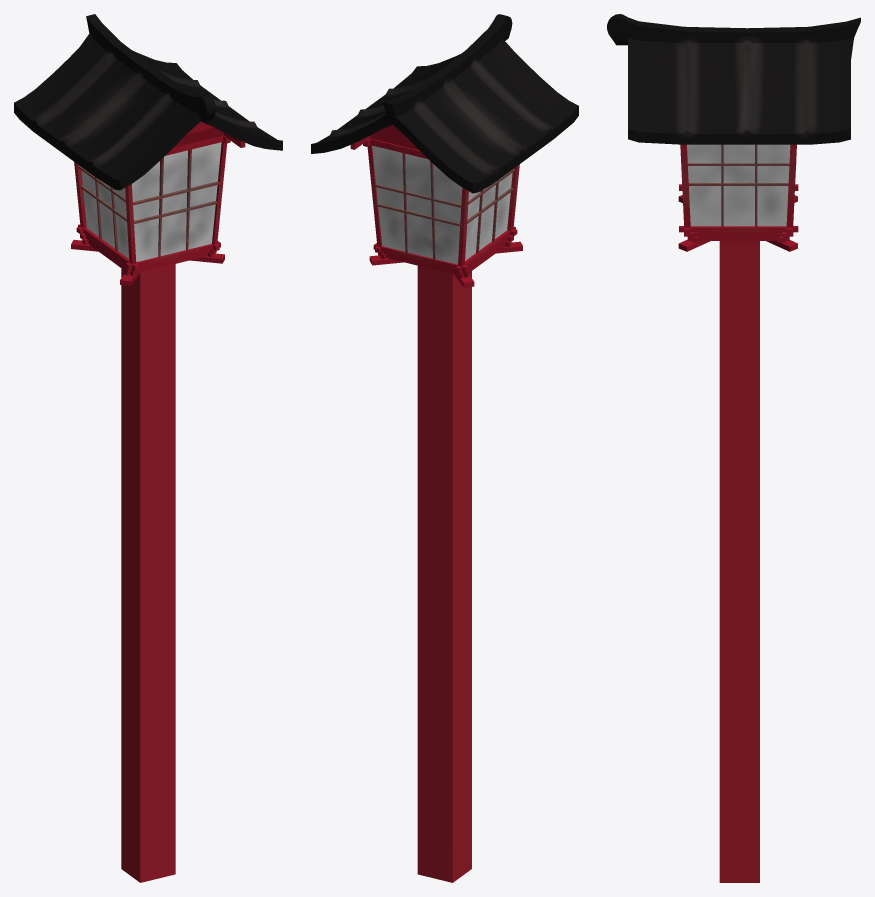
The model's file is toro.glb.
3 views of the same model, side by side, from view 1: azimuth 30°, elevation 25°; view 2: azimuth 150°, elevation 25°; view 3: azimuth 270°, elevation 25° (orthographic). The views are drawn at different scales.
Visible parts, largest first — view 1: lamp_stick, lamp_roof_ver3, lamp_paper, lamp_base3, lamp_paper_details, lamp_roof_base, lamp_cross, lamp_base1; view 2: lamp_stick, lamp_roof_ver3, lamp_paper, lamp_base3, lamp_paper_details, lamp_roof_base, lamp_cross, lamp_base1; view 3: lamp_roof_ver3, lamp_stick, lamp_paper, lamp_base3, lamp_paper_details, lamp_base2, lamp_base1.
Part boxes in pixels (bbox=[...]): lamp_stick: bbox=[121, 264, 175, 882]; lamp_roof_ver3: bbox=[14, 14, 282, 190]; lamp_paper: bbox=[81, 142, 221, 261]; lamp_base3: bbox=[74, 142, 227, 270]; lamp_paper_details: bbox=[79, 148, 220, 257]; lamp_roof_base: bbox=[173, 122, 245, 147]; lamp_cross: bbox=[71, 239, 224, 285]; lamp_base1: bbox=[82, 239, 215, 276]; lamp_stick: bbox=[417, 265, 471, 882]; lamp_roof_ver3: bbox=[311, 14, 578, 193]; lamp_paper: bbox=[372, 145, 512, 264]; lamp_base3: bbox=[367, 145, 519, 272]; lamp_paper_details: bbox=[373, 153, 514, 259]; lamp_roof_base: bbox=[350, 125, 419, 150]; lamp_cross: bbox=[369, 241, 522, 287]; lamp_base1: bbox=[379, 241, 511, 278]; lamp_roof_ver3: bbox=[607, 14, 860, 144]; lamp_stick: bbox=[719, 241, 759, 882]; lamp_paper: bbox=[687, 144, 790, 226]; lamp_base3: bbox=[679, 144, 798, 234]; lamp_paper_details: bbox=[687, 144, 796, 226]; lamp_base2: bbox=[684, 232, 793, 238]; lamp_base1: bbox=[687, 236, 789, 242].
Size of the model in its own units: 0.2222 by 1.07 by 0.2864.
1 material, 1 textured.
